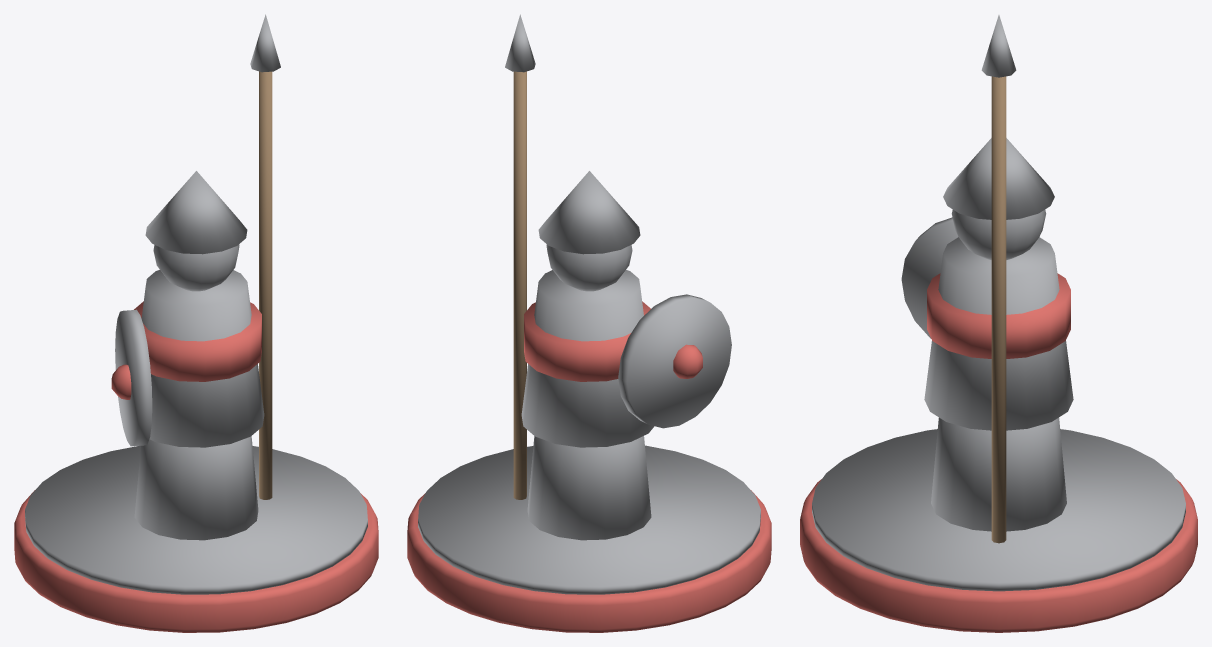
The model's file is soldier.glb.
The picture shows the model from 3 angles, left to right: view 1: azimuth 30°, elevation 25°; view 2: azimuth 150°, elevation 25°; view 3: azimuth 270°, elevation 25°; orthographic projection. The views are drawn at different scales.
Visible parts, largest first — view 1: soldier; view 2: soldier; view 3: soldier.
Part boxes in pixels (x1=…): soldier: x1=14, y1=14, x2=378, y2=632; soldier: x1=407, y1=14, x2=771, y2=632; soldier: x1=800, y1=15, x2=1197, y2=632.
Size of the model in its own units: 0.32 by 0.51 by 0.32.
